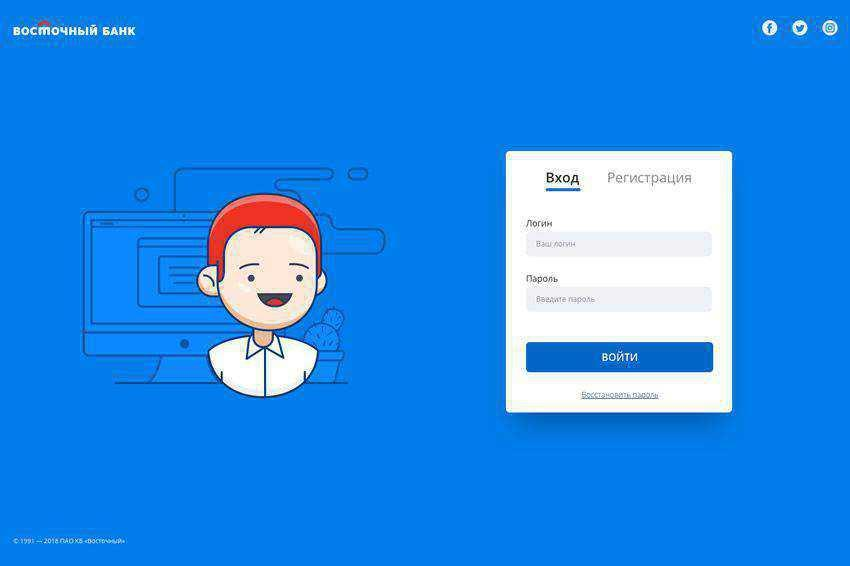button: (527, 340, 714, 375), (527, 342, 714, 374)
icon: (821, 17, 840, 38), (791, 19, 810, 39), (762, 19, 779, 39)
input: (526, 228, 713, 260), (525, 287, 713, 314)
label: (524, 272, 564, 285), (525, 219, 555, 229)
